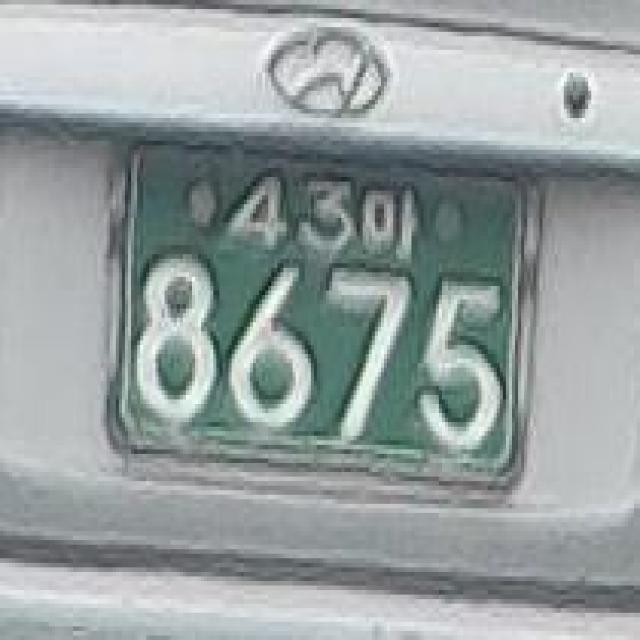illegal_plate: (93, 109, 548, 523)
